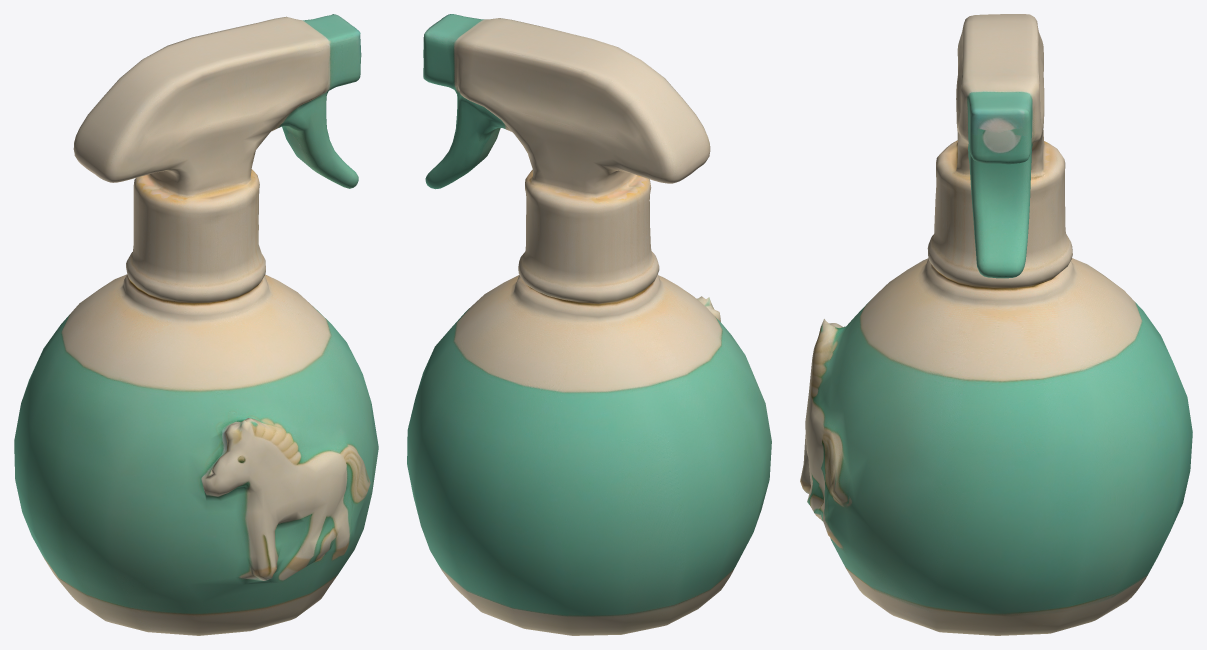
Rendered from item_spraybottle.glb.
3 renders of one model, left to right at view 1: azimuth 30°, elevation 25°; view 2: azimuth 150°, elevation 25°; view 3: azimuth 270°, elevation 25°, orthographic. The views are drawn at different scales.
Size of the model in its own units: 1.22 by 2 by 1.27.
Materials: 1 (1 with a texture image).
